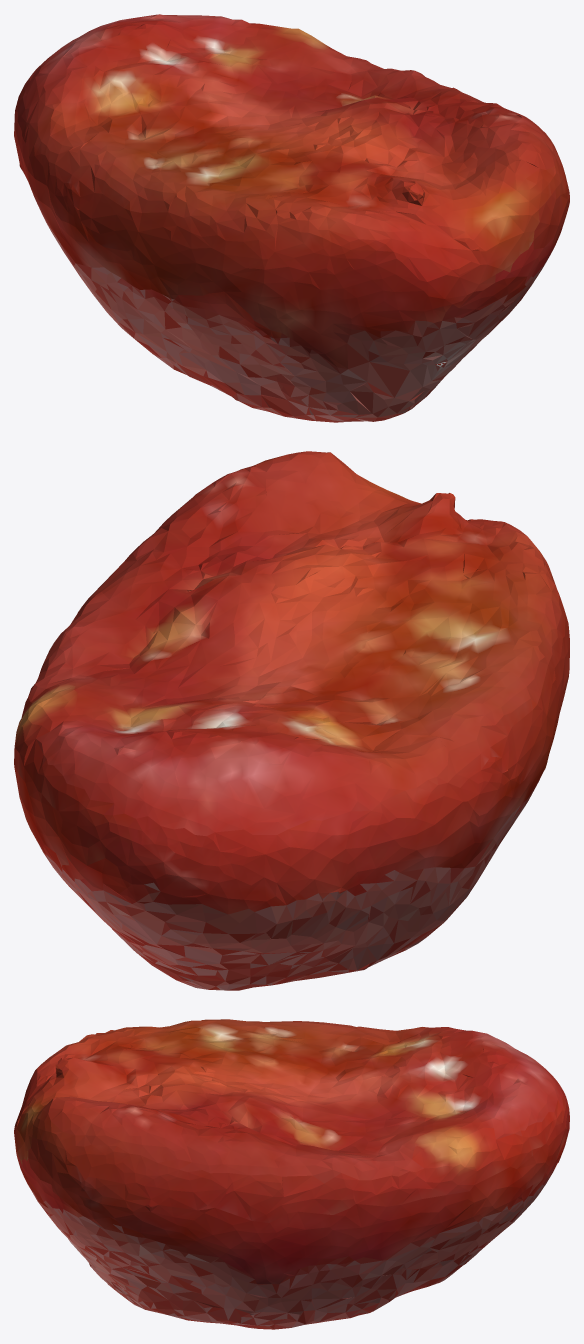
The model's file is model_SCIceTom_20201015_134040810.obj.
The picture shows the model from 3 angles, top to bottom: view 1: azimuth 30°, elevation 25°; view 2: azimuth 150°, elevation 25°; view 3: azimuth 270°, elevation 25°; orthographic projection. The views are drawn at different scales.
Bounding box in the file's own units: 19.32 × 14.67 × 27.63.
1 material, 1 textured.
